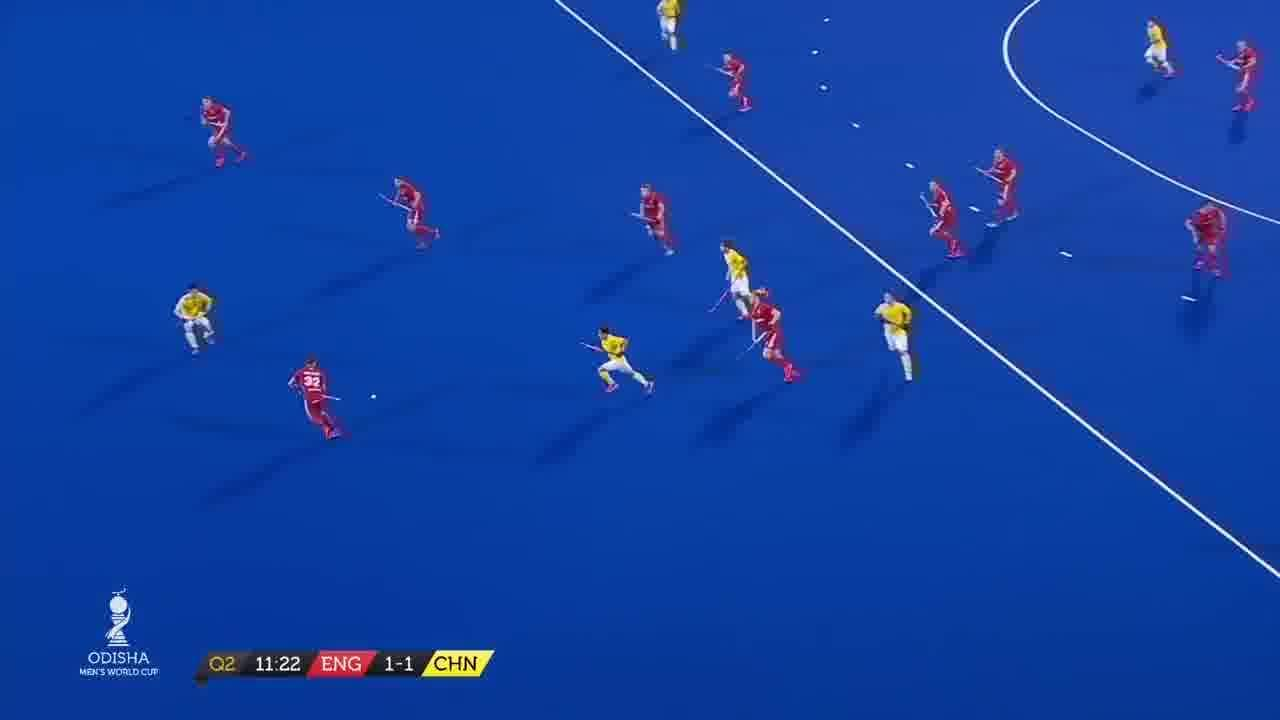ball: (364, 388, 384, 406)
